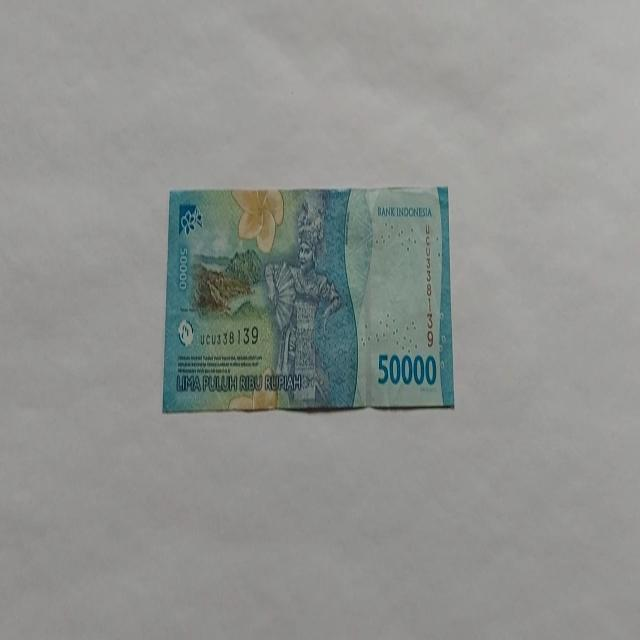lima puluh ribu rupiah: (161, 184, 455, 414)
